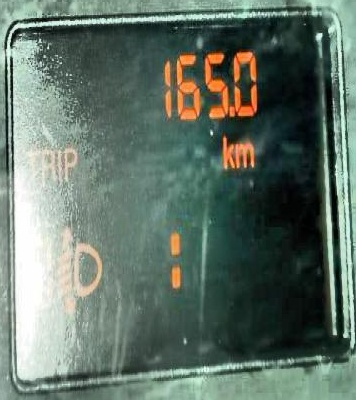-: (227, 103, 235, 117)
0: (233, 50, 258, 117)
1: (162, 58, 172, 120)
5: (203, 50, 229, 118)
6: (175, 52, 201, 120)
X: (168, 231, 182, 289), (25, 147, 40, 184), (234, 141, 254, 167), (41, 146, 55, 182), (63, 145, 77, 180), (221, 133, 234, 167), (55, 146, 61, 182)
